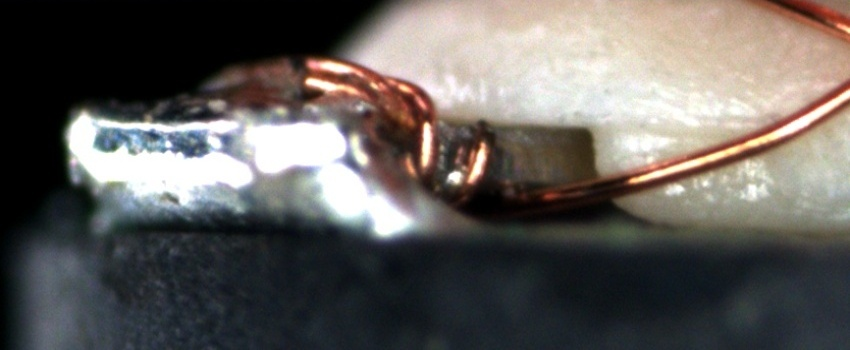DL: (622, 95, 776, 159)
TE: (258, 53, 500, 212)
